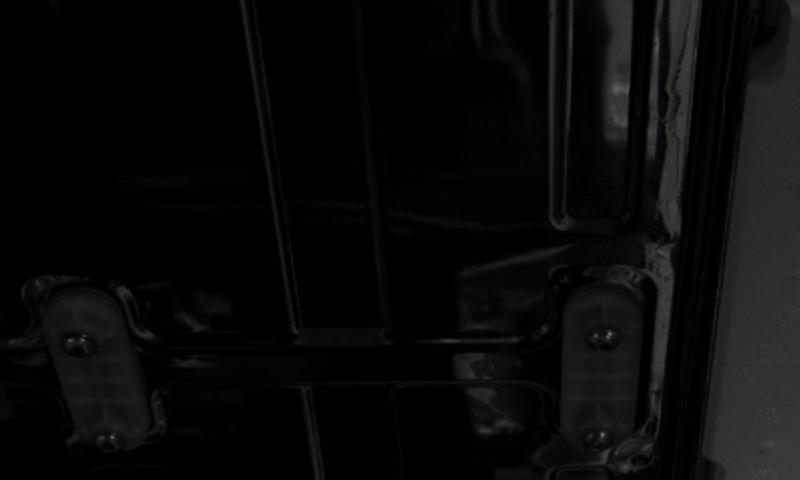vida-ok: (584, 317, 628, 362), (60, 321, 100, 366), (89, 424, 132, 464), (577, 418, 617, 457)
